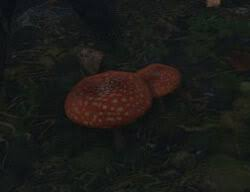apple: (64, 70, 152, 127)
